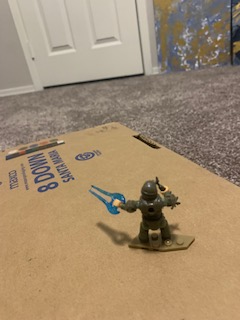soldier: (88, 173, 183, 249)
